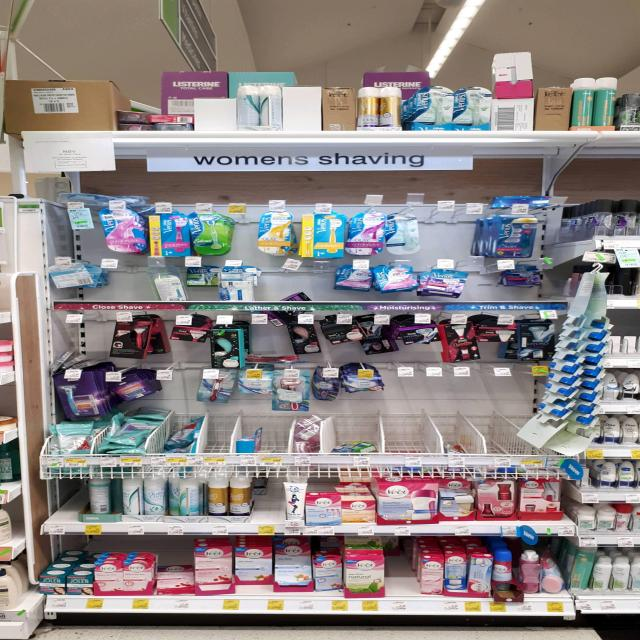void: (384, 549, 421, 598), (390, 412, 432, 452), (248, 474, 283, 520), (336, 410, 371, 448), (51, 481, 79, 523), (448, 420, 484, 450), (496, 420, 524, 454), (208, 416, 232, 452), (258, 418, 284, 450)
